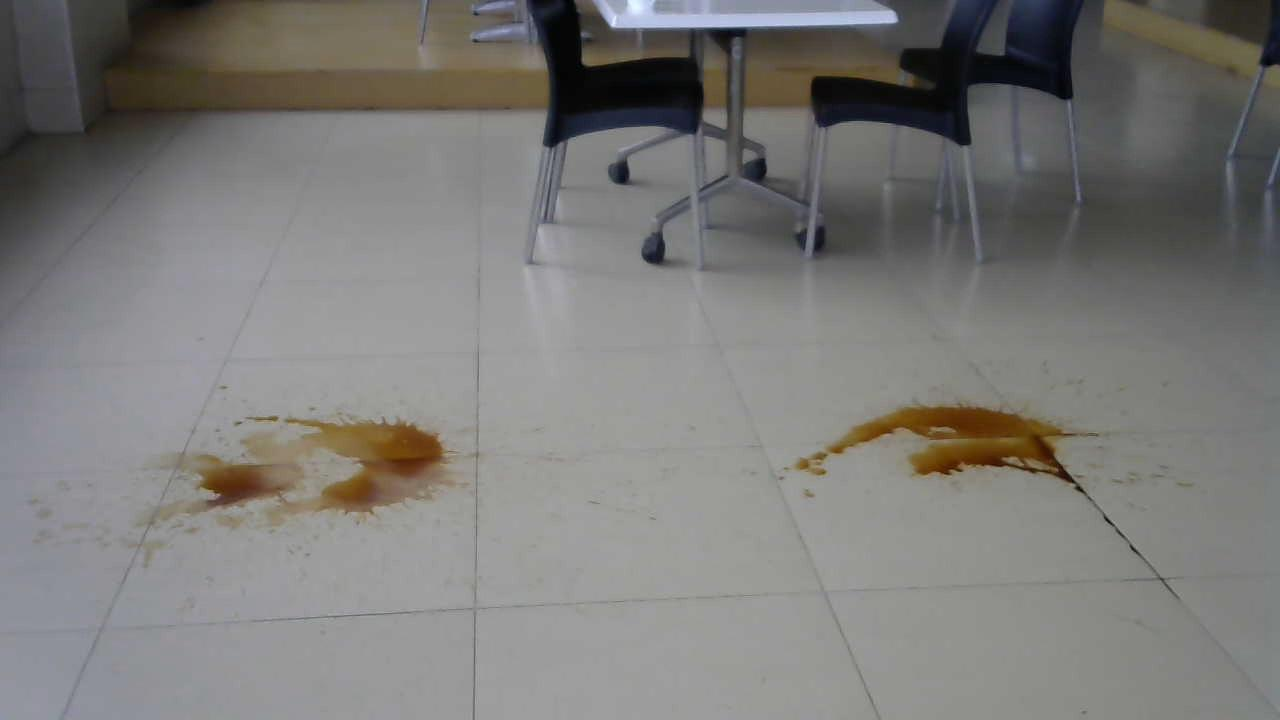dirty_floor: (132, 390, 474, 550), (774, 385, 1099, 510)
